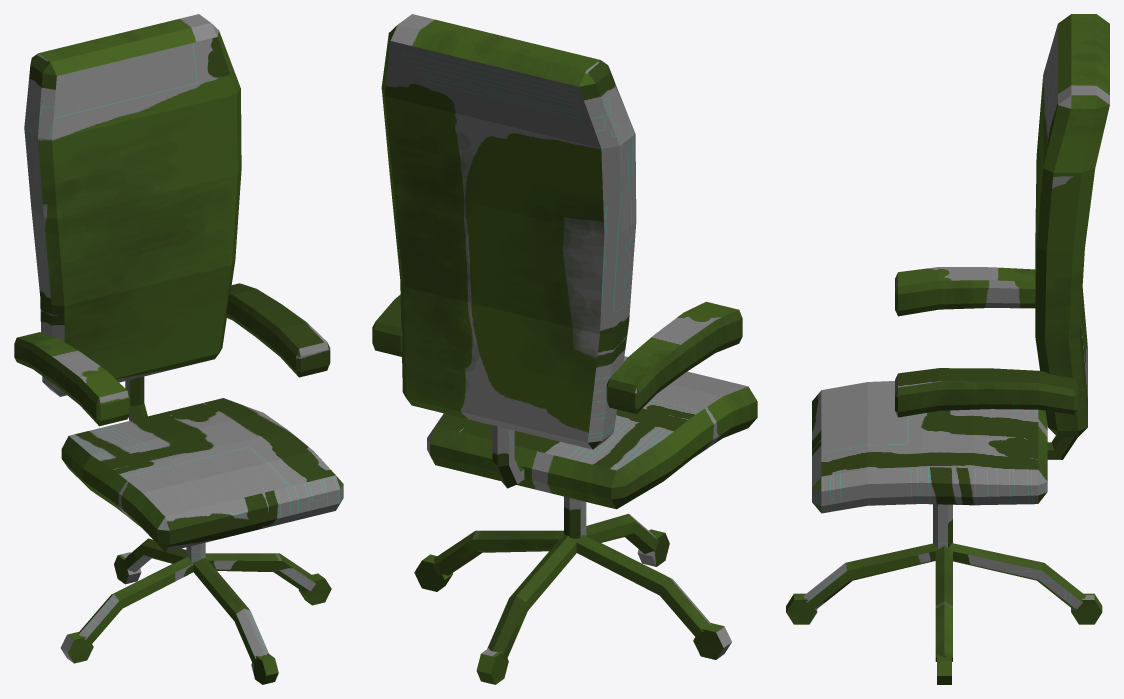
The model's file is SEDIA BOSS.FBX.
3 views of the same model, side by side, from view 1: azimuth 30°, elevation 25°; view 2: azimuth 150°, elevation 25°; view 3: azimuth 270°, elevation 25° (orthographic). The views are drawn at different scales.
Parts seen in each view (by area): view 1: sedia boss; view 2: sedia boss; view 3: sedia boss.
Boxes of the visible parts, x1,y1,x2,y2 form: sedia boss: [14, 14, 343, 684]; sedia boss: [372, 14, 757, 684]; sedia boss: [786, 14, 1109, 684].
Bounding box in the file's own units: 0.6388 × 1.26 × 0.654.
